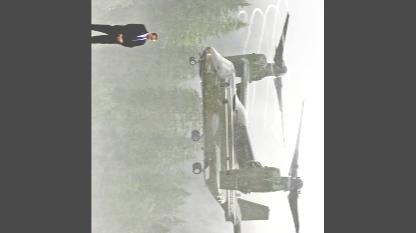Tornado: (190, 11, 306, 232)
